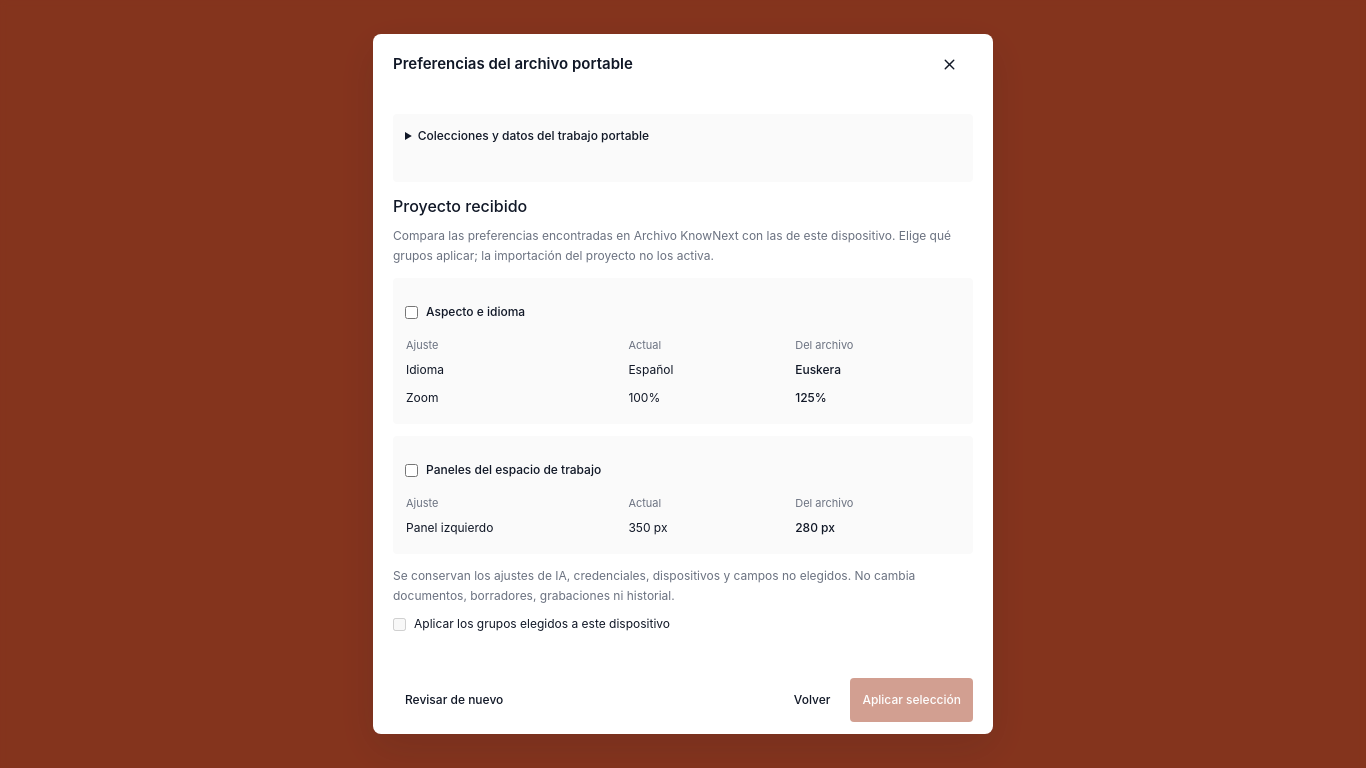
Scenario: requires explicit group, confirmation and protected authority before applying
This screenshot has width=1366, height=768.
Expected: the text "Euskera" is shown, [794, 356, 961, 384]
Expected: the button "Aplicar selección" is disabled, [850, 678, 973, 722]
Click the checkbox labelled "Aspecto e idioma" at (412, 312), box [405, 306, 418, 318]
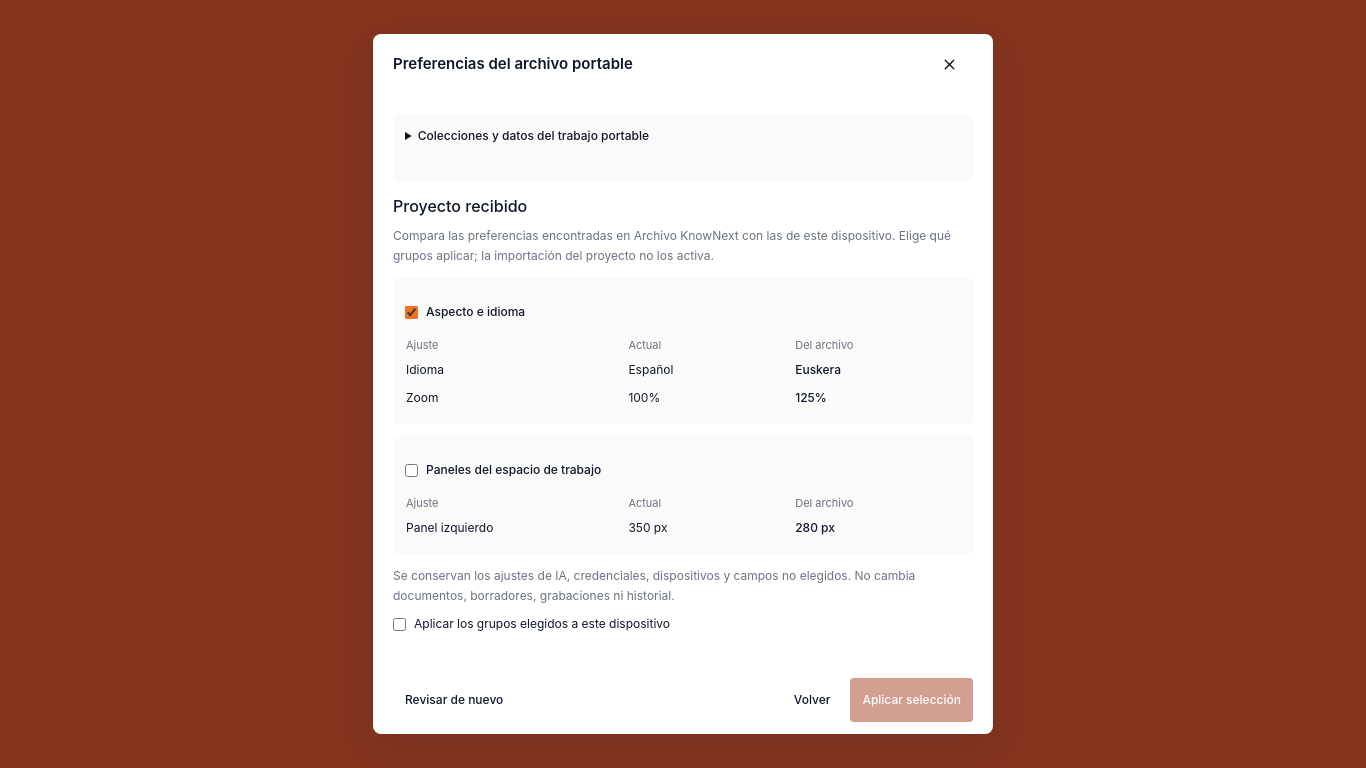
Expected: the button "Aplicar selección" is disabled, [850, 678, 973, 722]
Click the checkbox labelled "Aplicar los grupos elegidos a este dispositivo" at (400, 624), box [393, 618, 406, 631]
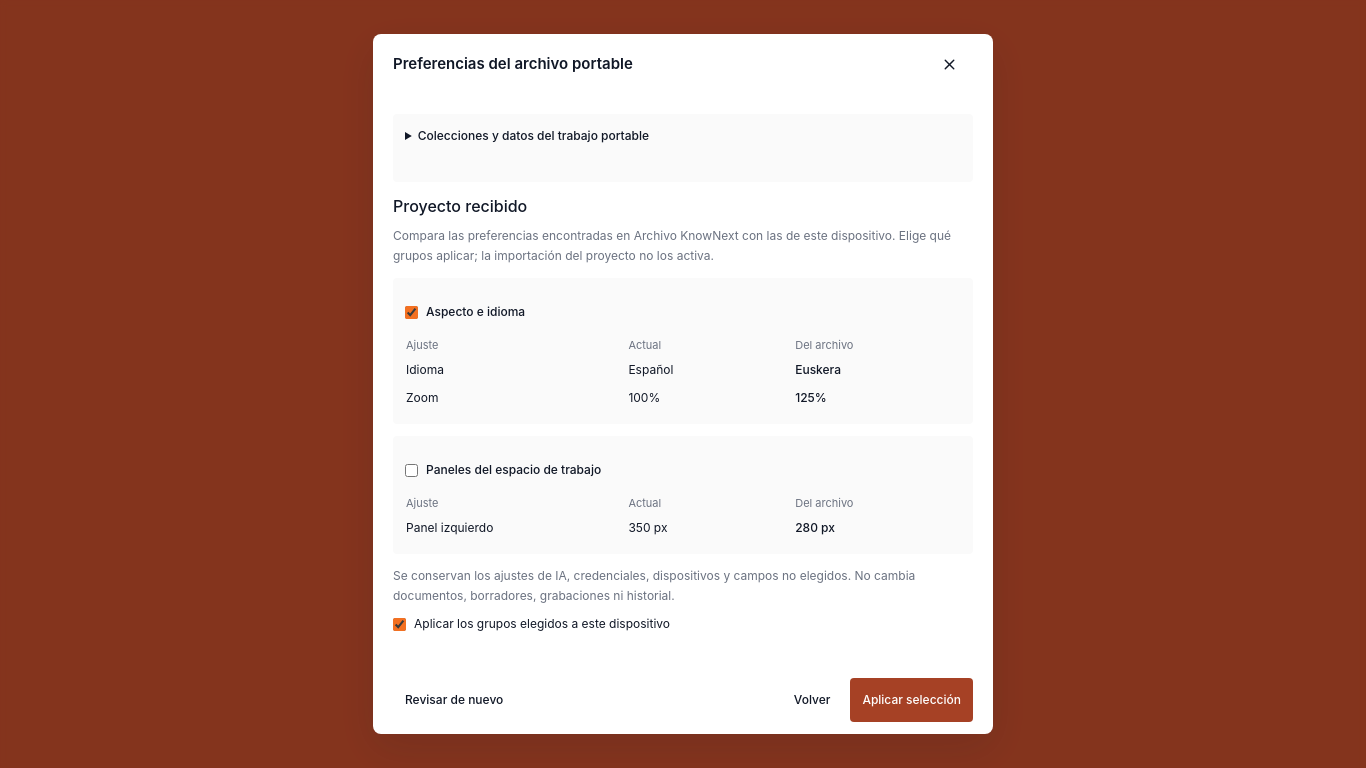
Click the button "Aplicar selección" at (912, 700), box [850, 678, 973, 722]
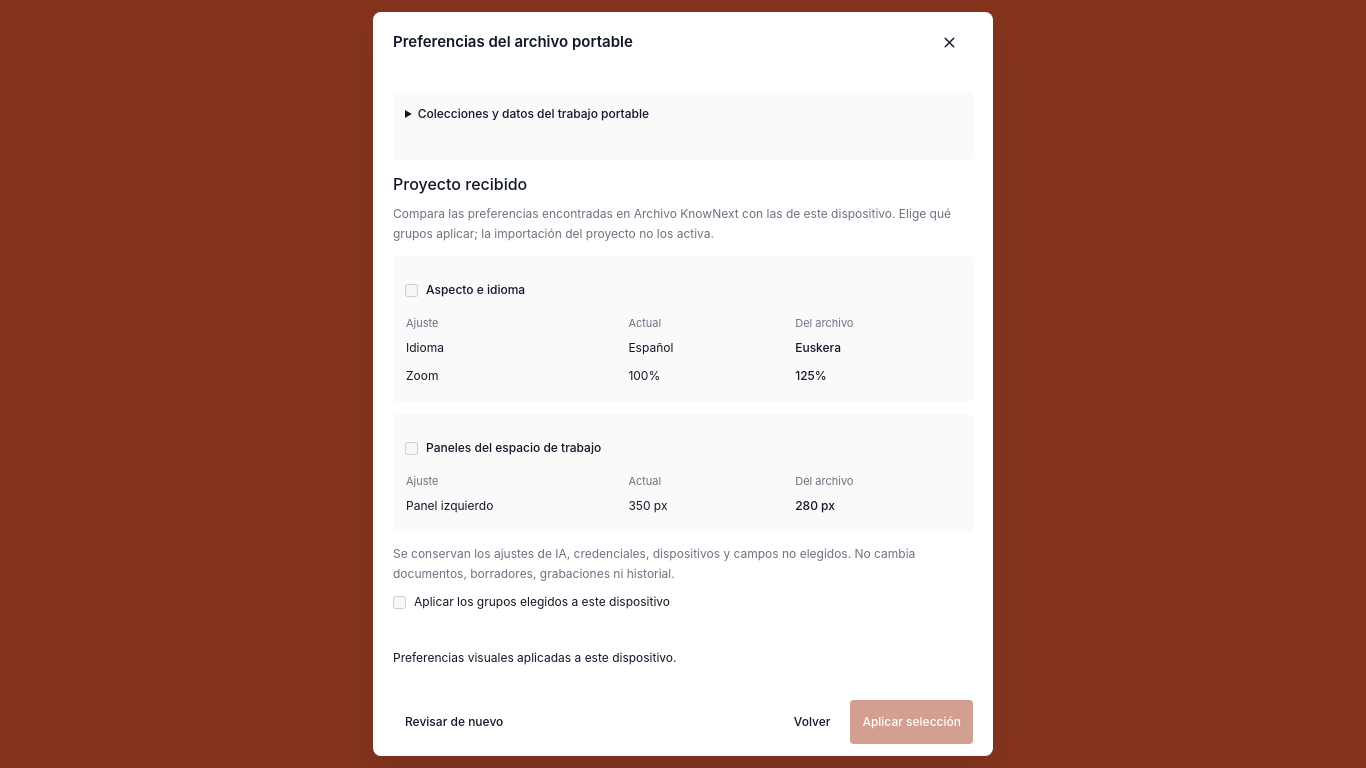
Expected: the text "Preferencias visuales aplicadas a este dispositivo." is shown, [393, 650, 676, 665]
Expected: the button "Aplicar selección" is disabled, [850, 700, 973, 744]
